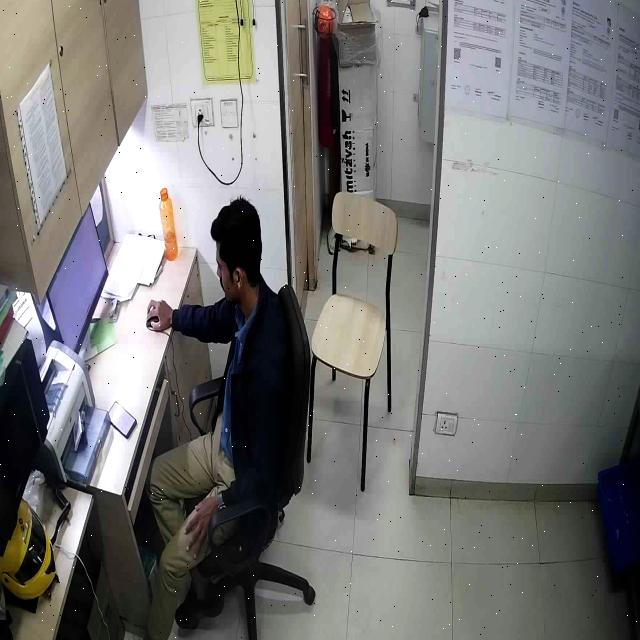helmet: (0, 494, 55, 600)
no_helmet: (213, 198, 261, 319)
